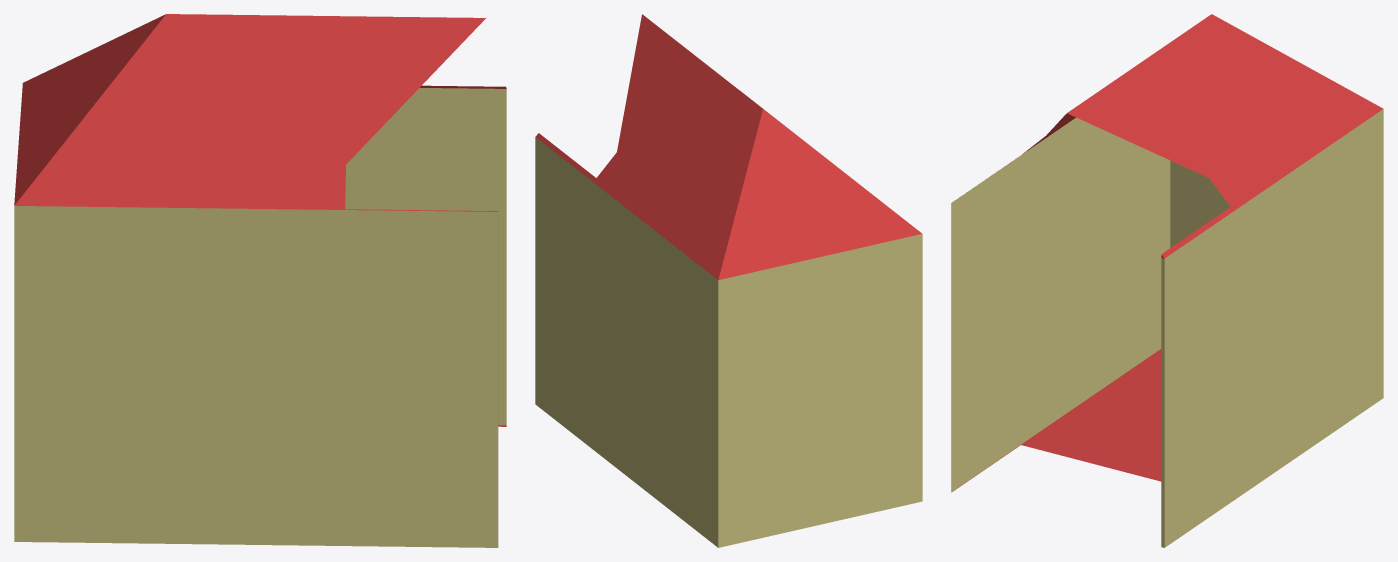
The picture shows the model from 3 angles, left to right: view 1: azimuth 30°, elevation 25°; view 2: azimuth 150°, elevation 25°; view 3: azimuth 270°, elevation 25°; orthographic projection. The views are drawn at different scales.
Visible parts, largest first — view 1: group_4, group_3; view 2: group_4, group_3; view 3: group_4, group_3, group_5.
Boxes of the visible parts, box(x1,y1,x2,y2) form: group_4: box(14, 88, 506, 547); group_3: box(14, 14, 506, 211); group_4: box(535, 91, 922, 547); group_3: box(535, 14, 921, 279); group_4: box(951, 109, 1383, 547); group_3: box(1022, 14, 1383, 258); group_5: box(952, 349, 1161, 491).
Size of the model in its own units: 17.83 by 15.85 by 16.28.
